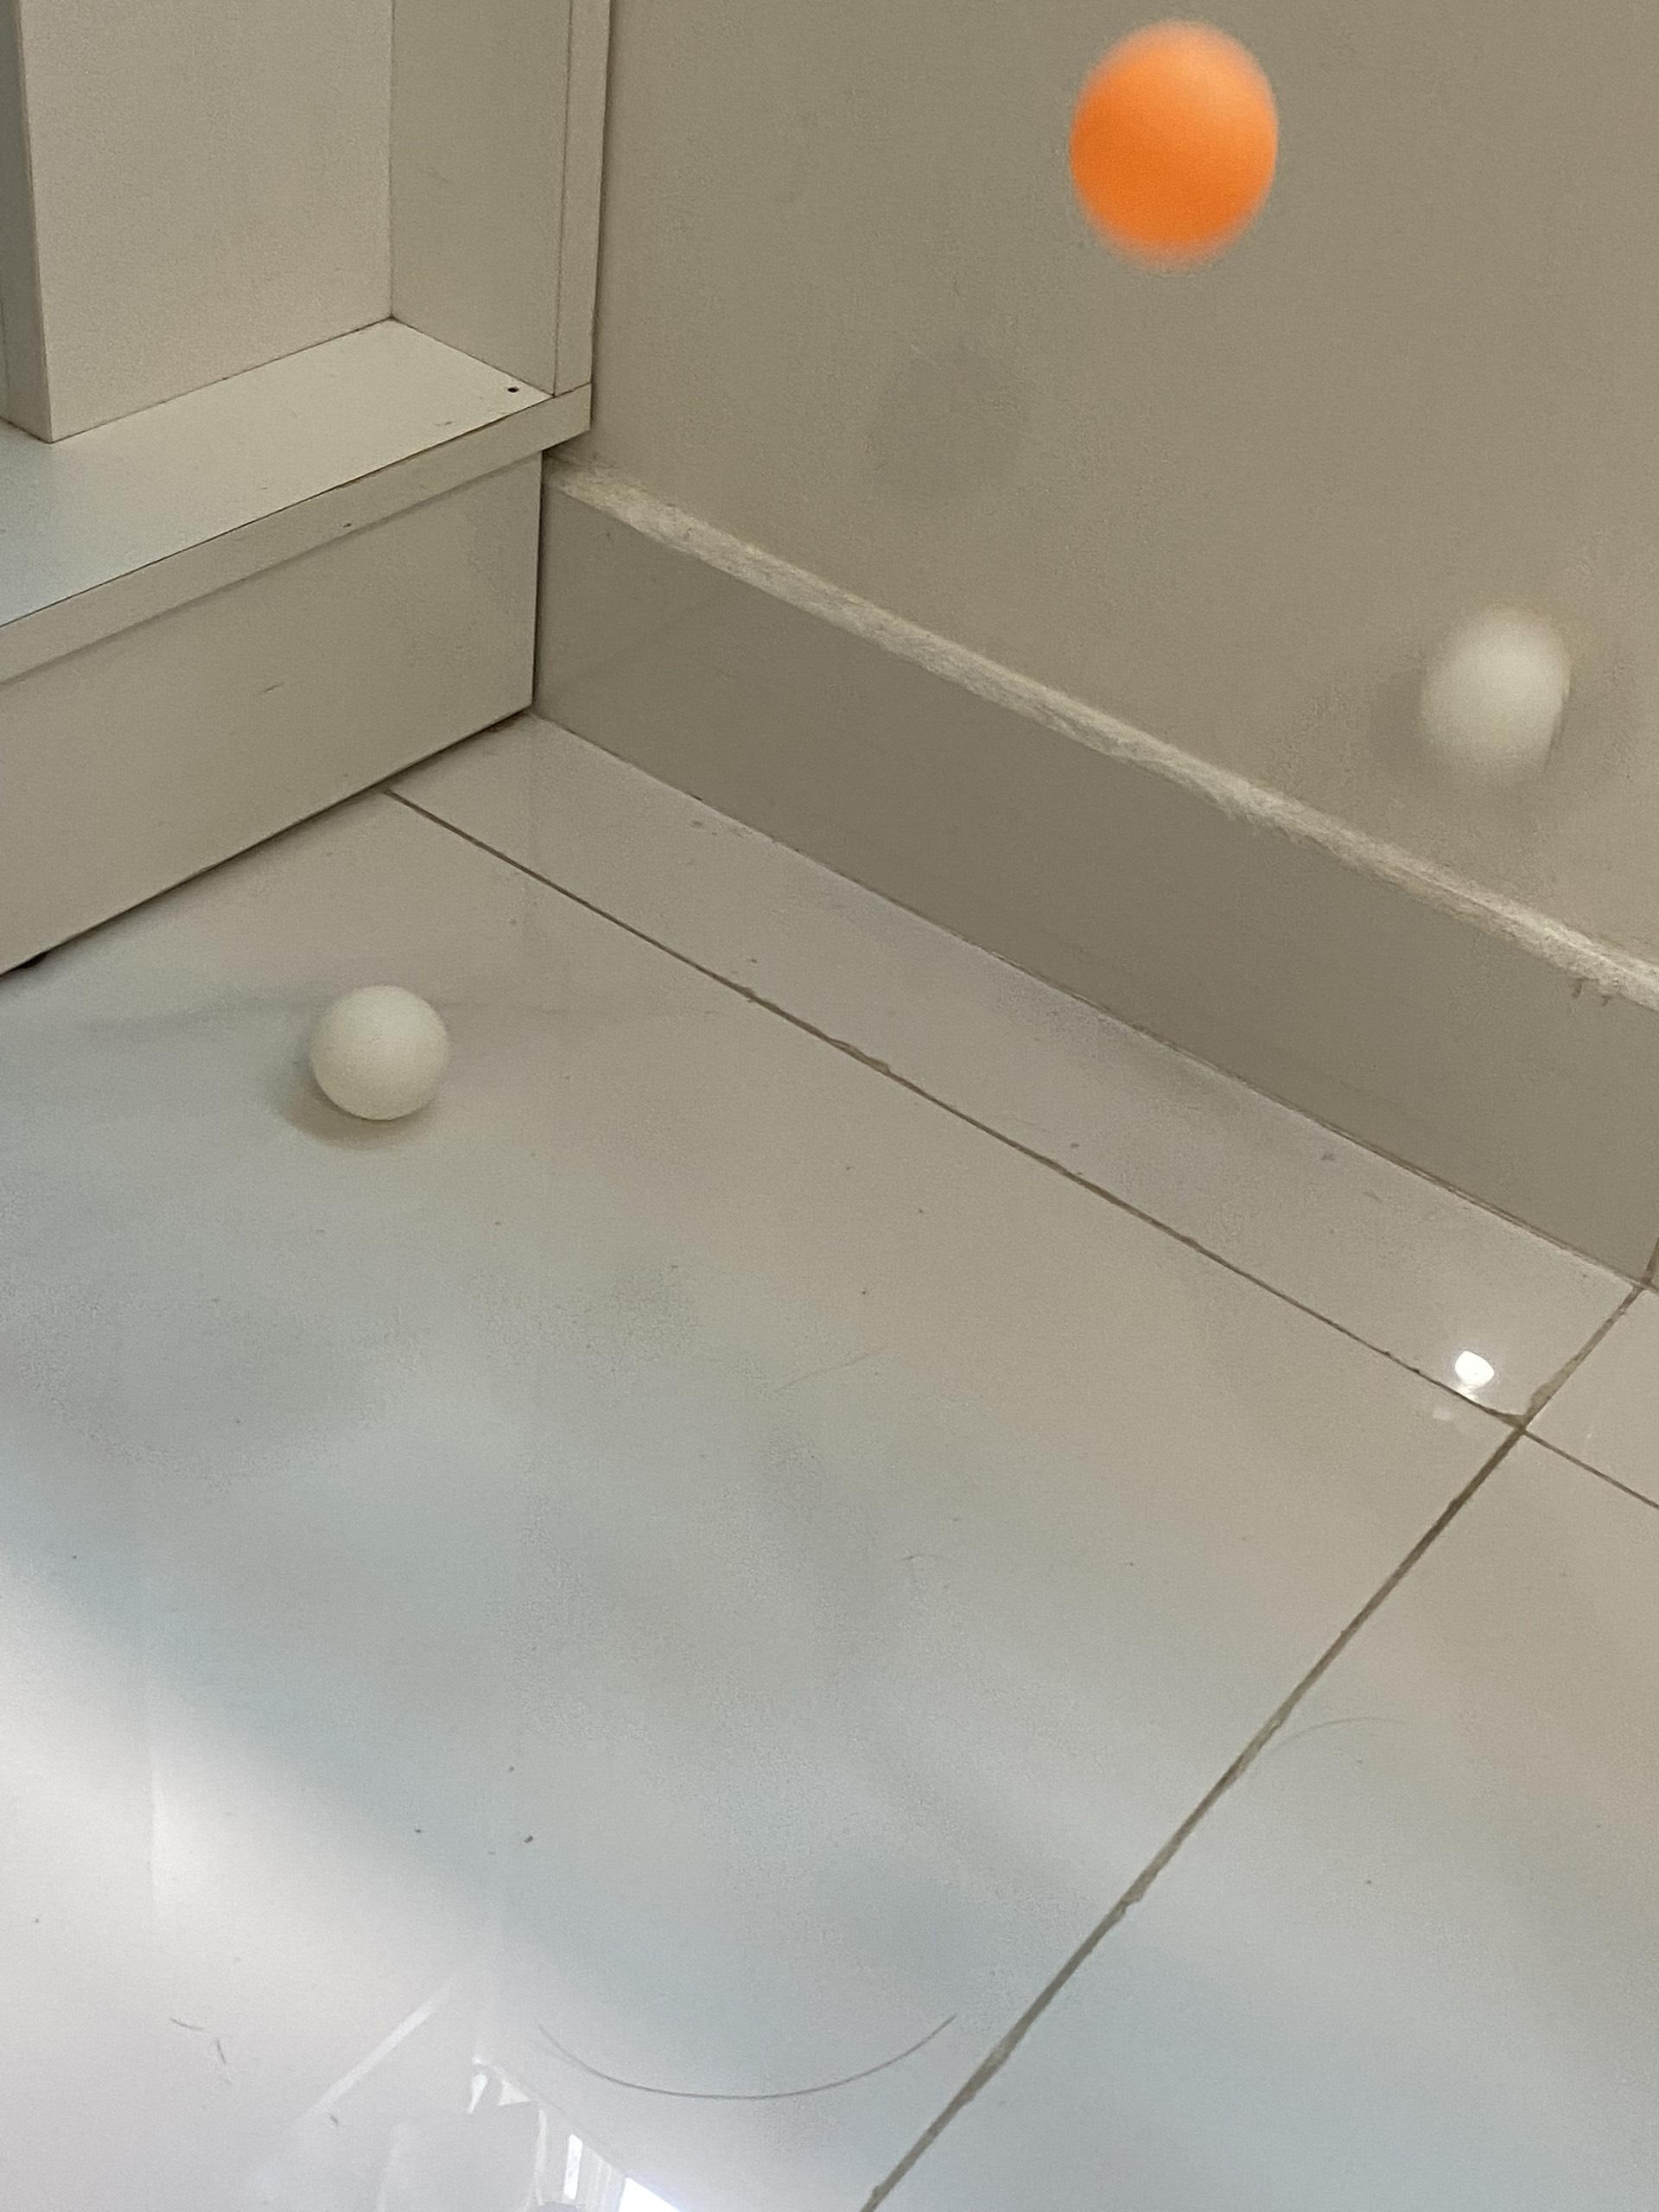oball: (1072, 23, 1279, 261)
